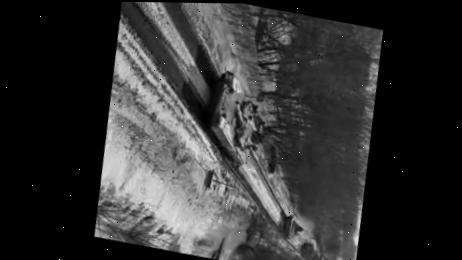tank: (195, 65, 276, 169), (281, 213, 302, 239)
